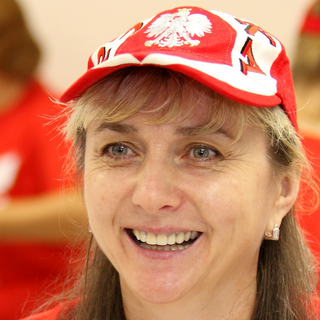eye: (96, 136, 146, 163), (174, 139, 225, 165)
